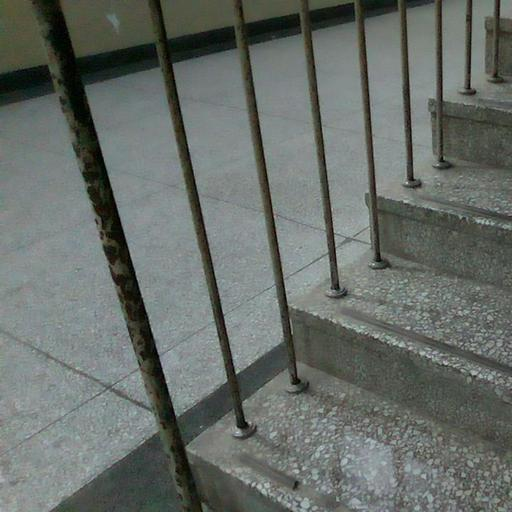Stairs: (188, 160, 512, 512)
